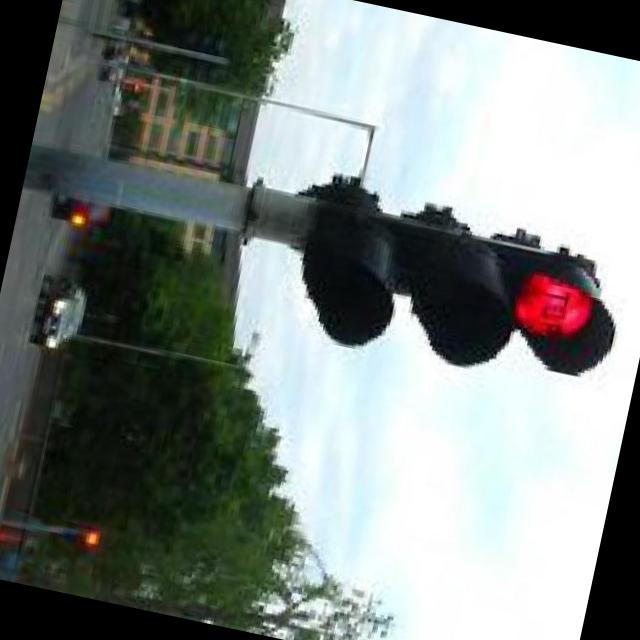red-lights: (491, 254, 598, 373)
